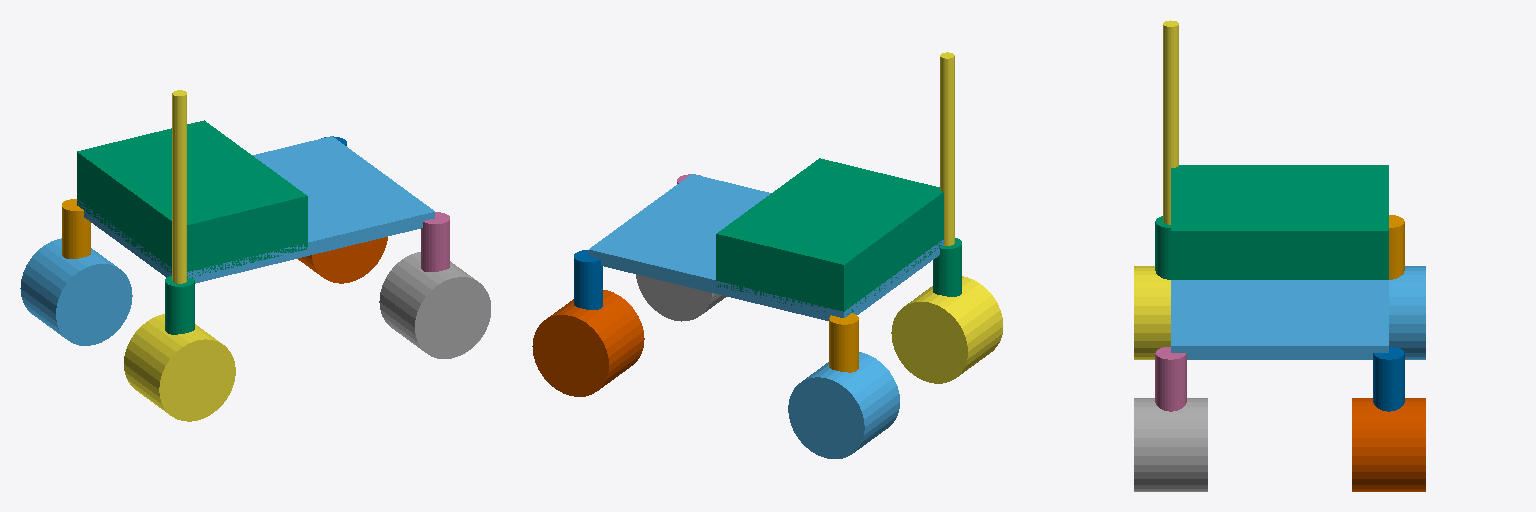
The robot description file, URDF, robot "test_rover":
<?xml version="1.0" ?>
<!-- =================================================================================== -->
<!-- |    This document was autogenerated by xacro from /home/teggatz/WRoverSoftware_Simulation/ros_ws/install/simulation/share/simulation/urdf/test_rover/test_rover.urdf.xacro | -->
<!-- |    EDITING THIS FILE BY HAND IS NOT RECOMMENDED                                 | -->
<!-- =================================================================================== -->
<!--
NOTES:
the inertial values need to be added and tuned on this thing.
This is not accurate to real life in the slightest because the inertia quaternions are not filled out...
On the note of inertial reference frames, we need to figure out how those will work with componenets adding onto each other...

Multiple links are being used even though the body is comprised of multiple shapes that are statically connected.
The reason this is being done is because having all those shapes and collisions being fused together in one ridged
body would require for some nasty parralell axis theorum problems in order to calculate inertia tensor for the link.
The compute used for this small change is miniscule and I dont want to do the calculations -Chris Teggatz
-->
<robot name="test_rover">
  <!-- ====ROVER BODY ==== -->
  <link name="base_link"/>
  <!-- Body Base -->
  <link name="body">
    <visual>
      <geometry>
        <box size="1.0 0.7 0.05"/>
      </geometry>
    </visual>
    <collision>
      <geometry>
        <box size="1.0 0.7 0.05"/>
      </geometry>
    </collision>
    <inertial>
      <mass value="1"/>
      <inertia ixx="0.04104166666666666" ixy="0" ixz="0" iyy="0.08354166666666665" iyz="0" izz="0.12416666666666666"/>
    </inertial>
  </link>
  <!-- Electronics Box -->
  <link name="body_electronic_box">
    <visual>
      <geometry>
        <box size="0.5 0.7 0.2"/>
      </geometry>
    </visual>
    <collision>
      <geometry>
        <box size="0.5 0.7 0.2"/>
      </geometry>
    </collision>
    <inertial>
      <mass value="0.5"/>
      <inertia ixx="0.02208333333333333" ixy="0" ixz="0" iyy="0.012083333333333335" iyz="0" izz="0.03083333333333333"/>
    </inertial>
  </link>
  <!-- Antenna Box -->
  <link name="body_antenna">
    <visual>
      <geometry>
        <cylinder length="0.7" radius="0.025"/>
      </geometry>
    </visual>
    <collision>
      <geometry>
        <cylinder length="0.7" radius="0.025"/>
      </geometry>
    </collision>
    <inertial>
      <mass value="0.1"/>
      <inertia ixx="0.004098958333333333" ixy="0" ixz="0" iyy="0.004098958333333333" iyz="0" izz="3.125000000000001e-05"/>
    </inertial>
  </link>
  <!-- Main Leg Stem -->
  <link name="FR_leg">
    <visual>
      <pose xyz="0 0 0"/>
      <geometry>
        <cylinder length="0.4" radius="0.05"/>
      </geometry>
    </visual>
    <collision>
      <pose xyz="0 0 0"/>
      <geometry>
        <cylinder length="0.4" radius="0.05"/>
      </geometry>
    </collision>
    <inertial>
      <mass value="0.5"/>
      <inertia ixx="0.006979166666666668" ixy="0" ixz="0" iyy="0.006979166666666668" iyz="0" izz="0.0006250000000000001"/>
    </inertial>
  </link>
  <!-- Main Wheel -->
  <link name="FR_wheel">
    <visual>
      <origin rpy="1.57075 1.57075 0"/>
      <geometry>
        <cylinder length="0.24" radius="0.15"/>
      </geometry>
    </visual>
    <collision>
      <origin rpy="1.57075 1.57075 0"/>
      <geometry>
        <cylinder length="0.24" radius="0.15"/>
      </geometry>
    </collision>
    <inertial>
      <mass value="0.5"/>
      <inertia ixx="0.005212499999999999" ixy="0" ixz="0" iyy="0.005212499999999999" iyz="0" izz="0.005625"/>
    </inertial>
  </link>
  <!-- JOINTS -->
  <joint name="FR_leg_to_body" type="revolute">
    <parent link="body"/>
    <child link="FR_leg"/>
    <axis xyz="0 0 1"/>
    <limit effort="30" lower="-1.57" upper="1.57" velocity="1.0"/>
    <origin rpy="0 0 0" xyz="0.5 0.35 -0.2"/>
  </joint>
  <joint name="FR_wheel_to_leg" type="revolute">
    <parent link="FR_leg"/>
    <child link="FR_wheel"/>
    <axis xyz="0 1 0"/>
    <limit effort="30" lower="-1.57" upper="1.57" velocity="1.0"/>
    <origin xyz="0 0 -0.125"/>
  </joint>
  <!-- Main Leg Stem -->
  <link name="FL_leg">
    <visual>
      <pose xyz="0 0 0"/>
      <geometry>
        <cylinder length="0.4" radius="0.05"/>
      </geometry>
    </visual>
    <collision>
      <pose xyz="0 0 0"/>
      <geometry>
        <cylinder length="0.4" radius="0.05"/>
      </geometry>
    </collision>
    <inertial>
      <mass value="0.5"/>
      <inertia ixx="0.006979166666666668" ixy="0" ixz="0" iyy="0.006979166666666668" iyz="0" izz="0.0006250000000000001"/>
    </inertial>
  </link>
  <!-- Main Wheel -->
  <link name="FL_wheel">
    <visual>
      <origin rpy="1.57075 1.57075 0"/>
      <geometry>
        <cylinder length="0.24" radius="0.15"/>
      </geometry>
    </visual>
    <collision>
      <origin rpy="1.57075 1.57075 0"/>
      <geometry>
        <cylinder length="0.24" radius="0.15"/>
      </geometry>
    </collision>
    <inertial>
      <mass value="0.5"/>
      <inertia ixx="0.005212499999999999" ixy="0" ixz="0" iyy="0.005212499999999999" iyz="0" izz="0.005625"/>
    </inertial>
  </link>
  <!-- JOINTS -->
  <joint name="FL_leg_to_body" type="revolute">
    <parent link="body"/>
    <child link="FL_leg"/>
    <axis xyz="0 0 1"/>
    <limit effort="30" lower="-1.57" upper="1.57" velocity="1.0"/>
    <origin rpy="0 0 0" xyz="0.5 -0.35 -0.2"/>
  </joint>
  <joint name="FL_wheel_to_leg" type="revolute">
    <parent link="FL_leg"/>
    <child link="FL_wheel"/>
    <axis xyz="0 1 0"/>
    <limit effort="30" lower="-1.57" upper="1.57" velocity="1.0"/>
    <origin xyz="0 0 -0.125"/>
  </joint>
  <!-- Main Leg Stem -->
  <link name="BR_leg">
    <visual>
      <pose xyz="0 0 0"/>
      <geometry>
        <cylinder length="0.4" radius="0.05"/>
      </geometry>
    </visual>
    <collision>
      <pose xyz="0 0 0"/>
      <geometry>
        <cylinder length="0.4" radius="0.05"/>
      </geometry>
    </collision>
    <inertial>
      <mass value="0.5"/>
      <inertia ixx="0.006979166666666668" ixy="0" ixz="0" iyy="0.006979166666666668" iyz="0" izz="0.0006250000000000001"/>
    </inertial>
  </link>
  <!-- Main Wheel -->
  <link name="BR_wheel">
    <visual>
      <origin rpy="1.57075 1.57075 0"/>
      <geometry>
        <cylinder length="0.24" radius="0.15"/>
      </geometry>
    </visual>
    <collision>
      <origin rpy="1.57075 1.57075 0"/>
      <geometry>
        <cylinder length="0.24" radius="0.15"/>
      </geometry>
    </collision>
    <inertial>
      <mass value="0.5"/>
      <inertia ixx="0.005212499999999999" ixy="0" ixz="0" iyy="0.005212499999999999" iyz="0" izz="0.005625"/>
    </inertial>
  </link>
  <!-- JOINTS -->
  <joint name="BR_leg_to_body" type="revolute">
    <parent link="body"/>
    <child link="BR_leg"/>
    <axis xyz="0 0 1"/>
    <limit effort="30" lower="-1.57" upper="1.57" velocity="1.0"/>
    <origin rpy="0 0 0" xyz="-0.5 0.35 -0.2"/>
  </joint>
  <joint name="BR_wheel_to_leg" type="revolute">
    <parent link="BR_leg"/>
    <child link="BR_wheel"/>
    <axis xyz="0 1 0"/>
    <limit effort="30" lower="-1.57" upper="1.57" velocity="1.0"/>
    <origin xyz="0 0 -0.125"/>
  </joint>
  <!-- Main Leg Stem -->
  <link name="BL_leg">
    <visual>
      <pose xyz="0 0 0"/>
      <geometry>
        <cylinder length="0.4" radius="0.05"/>
      </geometry>
    </visual>
    <collision>
      <pose xyz="0 0 0"/>
      <geometry>
        <cylinder length="0.4" radius="0.05"/>
      </geometry>
    </collision>
    <inertial>
      <mass value="0.5"/>
      <inertia ixx="0.006979166666666668" ixy="0" ixz="0" iyy="0.006979166666666668" iyz="0" izz="0.0006250000000000001"/>
    </inertial>
  </link>
  <!-- Main Wheel -->
  <link name="BL_wheel">
    <visual>
      <origin rpy="1.57075 1.57075 0"/>
      <geometry>
        <cylinder length="0.24" radius="0.15"/>
      </geometry>
    </visual>
    <collision>
      <origin rpy="1.57075 1.57075 0"/>
      <geometry>
        <cylinder length="0.24" radius="0.15"/>
      </geometry>
    </collision>
    <inertial>
      <mass value="0.5"/>
      <inertia ixx="0.005212499999999999" ixy="0" ixz="0" iyy="0.005212499999999999" iyz="0" izz="0.005625"/>
    </inertial>
  </link>
  <!-- JOINTS -->
  <joint name="BL_leg_to_body" type="revolute">
    <parent link="body"/>
    <child link="BL_leg"/>
    <axis xyz="0 0 1"/>
    <limit effort="30" lower="-1.57" upper="1.57" velocity="1.0"/>
    <origin rpy="0 0 0" xyz="-0.5 -0.35 -0.2"/>
  </joint>
  <joint name="BL_wheel_to_leg" type="revolute">
    <parent link="BL_leg"/>
    <child link="BL_wheel"/>
    <axis xyz="0 1 0"/>
    <limit effort="30" lower="-1.57" upper="1.57" velocity="1.0"/>
    <origin xyz="0 0 -0.125"/>
  </joint>
  <!-- JOINTS -->
  <joint name="base_to_body" type="fixed">
    <parent link="base_link"/>
    <child link="body"/>
    <origin rpy="0 0 0" xyz="0 0 0"/>
  </joint>
  <joint name="body_to_electrical_box" type="fixed">
    <parent link="body"/>
    <child link="body_electronic_box"/>
    <origin rpy="0 0 0" xyz="-0.25 0 0.1"/>
  </joint>
  <joint name="body_to_antenna" type="fixed">
    <parent link="body"/>
    <child link="body_antenna"/>
    <origin rpy="0 0 0" xyz="-0.5 -0.35 0.35"/>
  </joint>
</robot>

--- Facts derived from the render (not from the file) ---
3 views of the same robot in one strip: view 1: azimuth 30°, elevation 25°; view 2: azimuth 150°, elevation 25°; view 3: azimuth 270°, elevation 25° (orthographic).
Robot: test_rover — 12 links, 11 joints (8 revolute, 3 fixed); root link base_link; default pose: every joint at zero.
Links seen in each view (by area): view 1: body_electronic_box, body, FL_wheel, BR_wheel, BL_wheel, body_antenna, FR_wheel, BL_leg, FL_leg, BR_leg; view 2: body_electronic_box, body, FR_wheel, BL_wheel, BR_wheel, body_antenna, FL_wheel, BR_leg, FR_leg, BL_leg; view 3: body_electronic_box, body, FR_wheel, FL_wheel, BR_wheel, BL_wheel, body_antenna, FR_leg, FL_leg, BR_leg, BL_leg.
Link boxes in pixels (x1,y1,x2,y2): body_electronic_box: (77, 120, 307, 278); body: (77, 136, 434, 283); FL_wheel: (379, 252, 490, 358); BR_wheel: (20, 238, 132, 345); BL_wheel: (124, 314, 235, 421); body_antenna: (172, 90, 186, 283); FR_wheel: (298, 237, 387, 283); BL_leg: (165, 276, 194, 334); FL_leg: (421, 212, 449, 271); BR_leg: (62, 199, 90, 258); body_electronic_box: (716, 158, 943, 314); body: (589, 174, 943, 320); FR_wheel: (532, 290, 644, 396); BL_wheel: (891, 276, 1002, 383); BR_wheel: (788, 352, 899, 458); body_antenna: (940, 52, 954, 245); FL_wheel: (636, 274, 726, 321); BR_leg: (829, 313, 858, 372); FR_leg: (574, 250, 602, 309); BL_leg: (933, 238, 961, 296); body_electronic_box: (1171, 165, 1388, 279); body: (1171, 280, 1388, 359); FR_wheel: (1352, 398, 1425, 491); FL_wheel: (1134, 398, 1207, 491); BR_wheel: (1389, 266, 1425, 359); BL_wheel: (1134, 266, 1170, 359); body_antenna: (1163, 20, 1178, 224); FR_leg: (1373, 347, 1404, 411); FL_leg: (1155, 347, 1186, 411); BR_leg: (1389, 215, 1404, 279); BL_leg: (1155, 216, 1170, 279).
Size in the robot's own frame: 1.3 by 0.94 by 1.18 metres.
Geometry: primitives only (box / cylinder / sphere), no mesh files.
